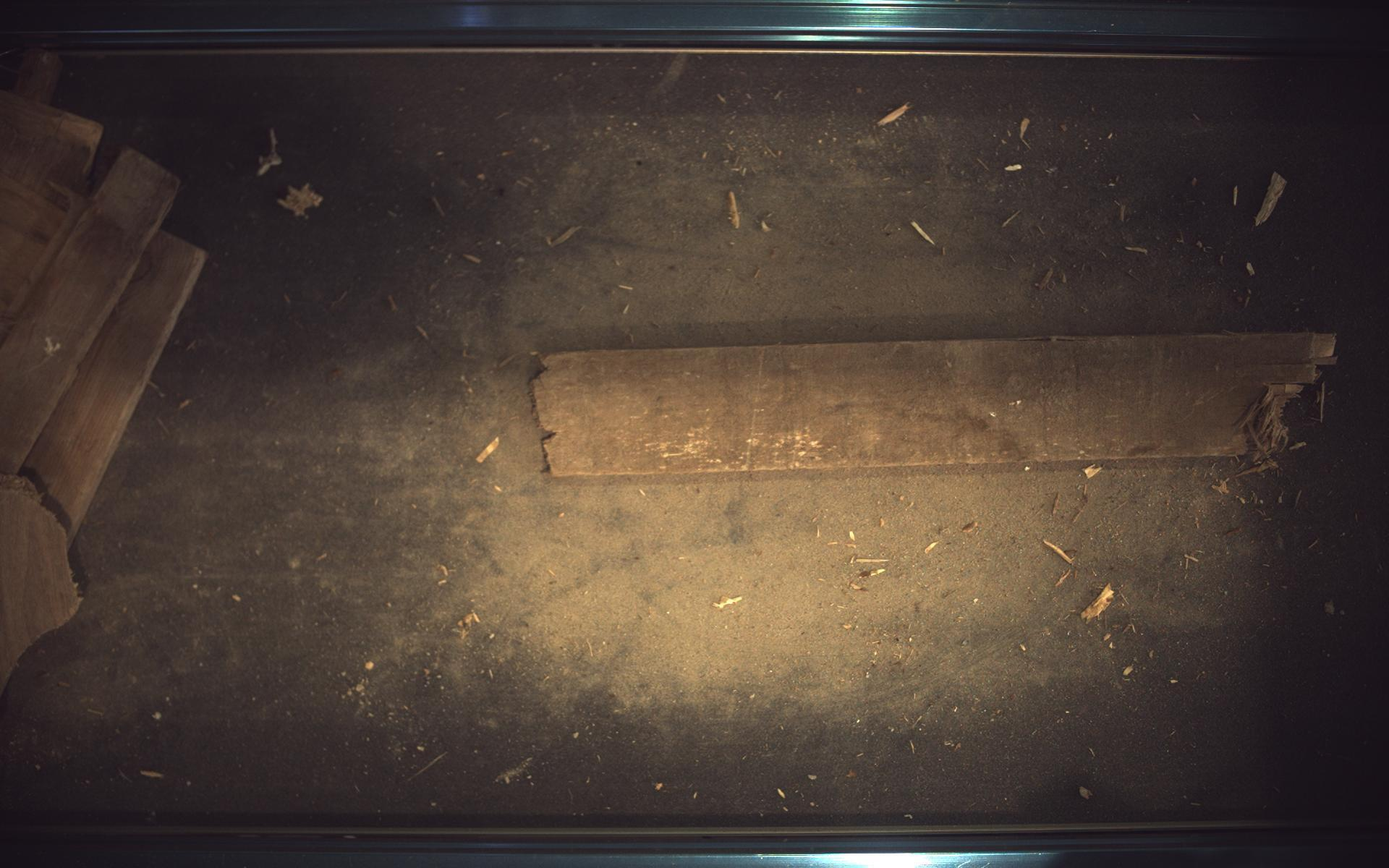wood: (534, 332, 1339, 477), (1, 148, 178, 474), (20, 231, 205, 540), (1, 90, 101, 343), (1, 475, 80, 694), (12, 48, 61, 103)
